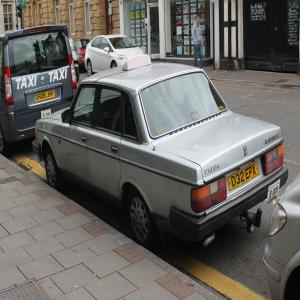Vehicle-registration-plate: (228, 165, 261, 199), (268, 181, 281, 207), (34, 91, 56, 103), (41, 109, 52, 121)
